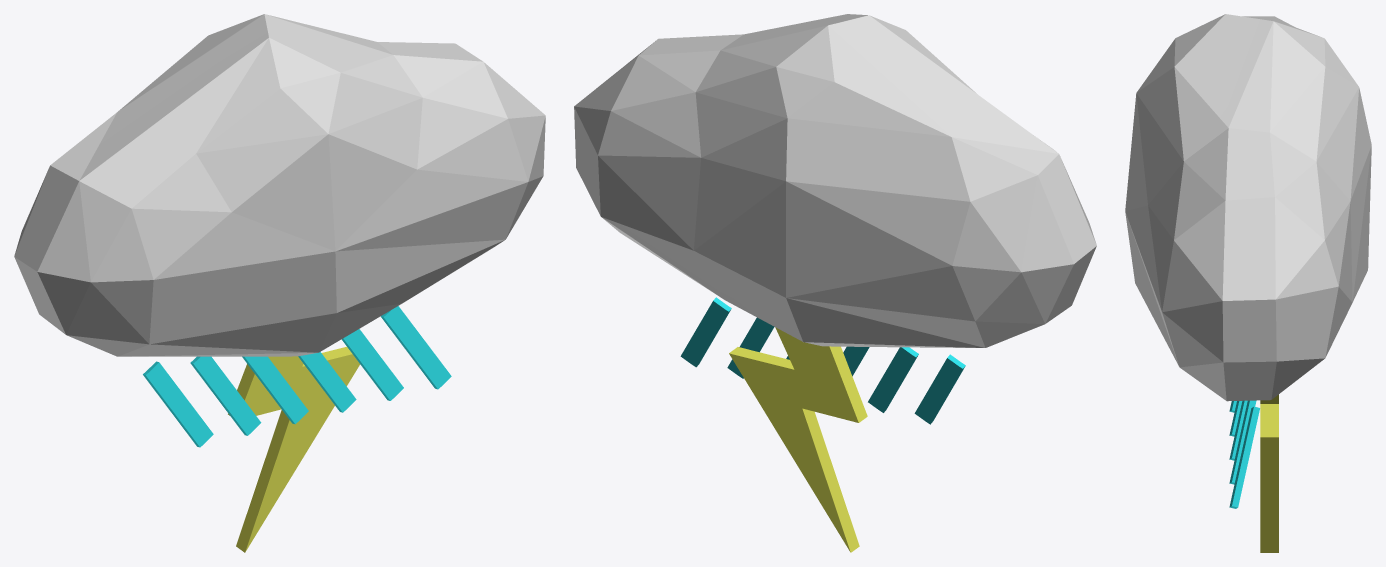
Rendered from Thunder-cloud.glb.
3 views of the same model, side by side, from view 1: azimuth 30°, elevation 25°; view 2: azimuth 150°, elevation 25°; view 3: azimuth 270°, elevation 25° (orthographic). The views are drawn at different scales.
Visible parts, largest first — view 1: Mball.004, Plane, Plane.001; view 2: Mball.004, Plane.001, Plane; view 3: Mball.004, Plane.001, Plane.
Boxes of the visible parts, box(x1,y1,x2,y2) form: Mball.004: box(14, 14, 545, 356); Plane: box(143, 306, 451, 447); Plane.001: box(228, 346, 360, 552); Mball.004: box(574, 14, 1096, 347); Plane.001: box(729, 327, 867, 552); Plane: box(680, 297, 965, 424); Mball.004: box(1125, 14, 1371, 401); Plane.001: box(1260, 394, 1278, 552); Plane: box(1229, 400, 1259, 508).
Size of the model in its own units: 6.05 by 6.02 by 2.47.
